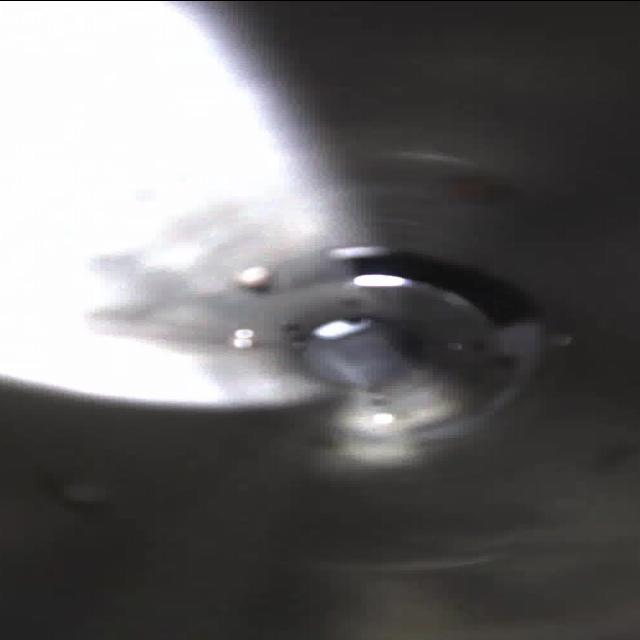hole: (323, 242, 552, 333)
